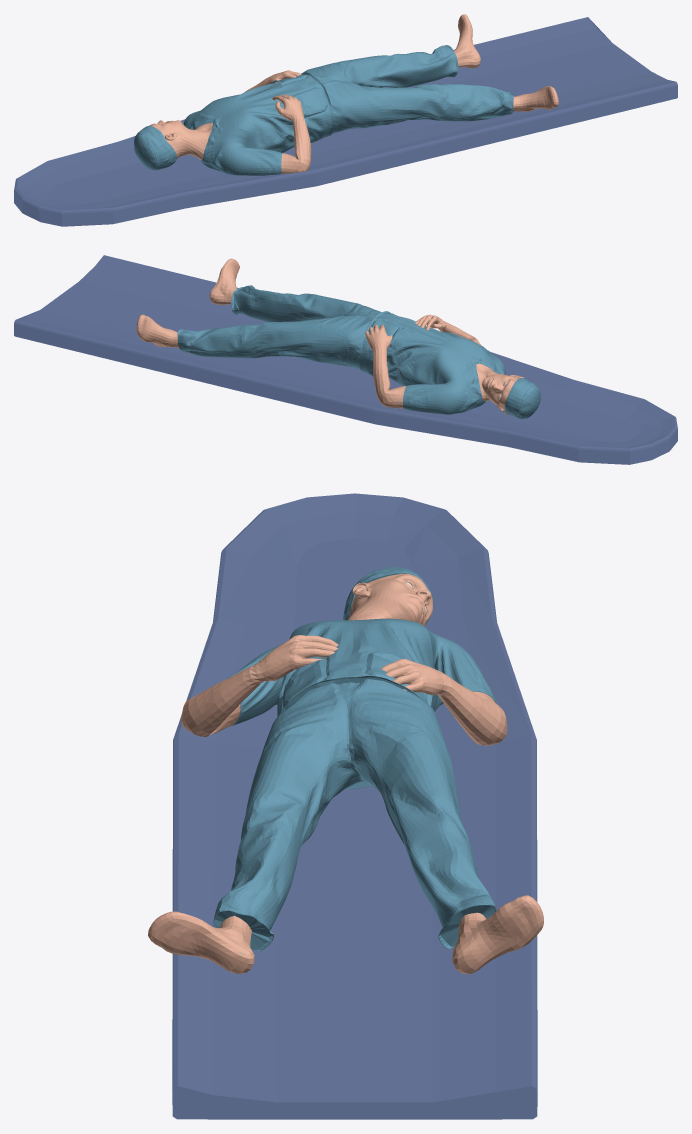
The model's file is Dynamic.glb.
3 views of the same model, one above another, from view 1: azimuth 30°, elevation 25°; view 2: azimuth 150°, elevation 25°; view 3: azimuth 270°, elevation 25° (orthographic). The views are drawn at different scales.
Parts seen in each view (by area): view 1: Qure_AI.001, patient; view 2: Qure_AI.001, patient; view 3: Qure_AI.001, patient.
Boxes of the visible parts, left/top/right/bottom form: Qure_AI.001: left=14, top=17, right=677, bottom=226; patient: left=134, top=14, right=558, bottom=175; Qure_AI.001: left=14, top=255, right=677, bottom=464; patient: left=136, top=258, right=540, bottom=418; Qure_AI.001: left=172, top=493, right=537, bottom=1119; patient: left=148, top=566, right=543, bottom=974.
Size of the model in its own units: 3.98 by 0.418 by 1.12.
2 materials, 1 textured.
